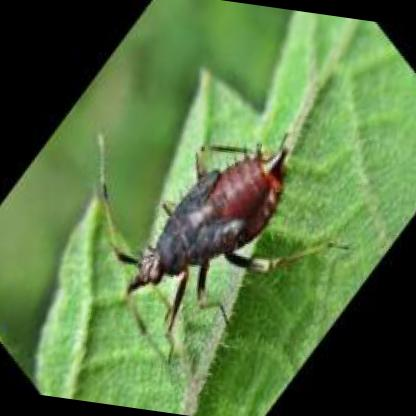uroleucon compositae: (97, 134, 290, 337)
